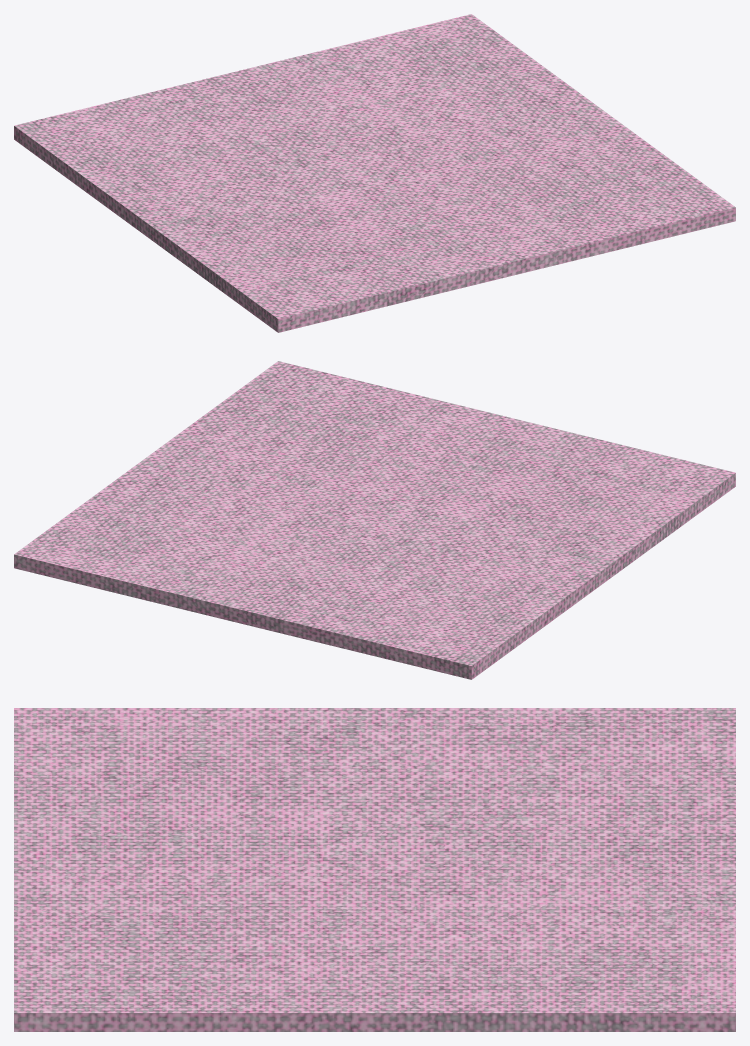
Rendered from Fabric.glb.
3 renders of one model, top to bottom at view 1: azimuth 30°, elevation 25°; view 2: azimuth 150°, elevation 25°; view 3: azimuth 270°, elevation 25°, orthographic. The views are drawn at different scales.
Visible parts, largest first — view 1: Fabric_Cloth; view 2: Fabric_Cloth; view 3: Fabric_Cloth.
Boxes of the visible parts, x1,y1,x2,y2 form: Fabric_Cloth: [14, 14, 735, 332]; Fabric_Cloth: [14, 361, 735, 679]; Fabric_Cloth: [14, 708, 735, 1031].
Size of the model in its own units: 0.6251 by 0.018 by 0.6251.
Materials: 1 (1 with a texture image).
